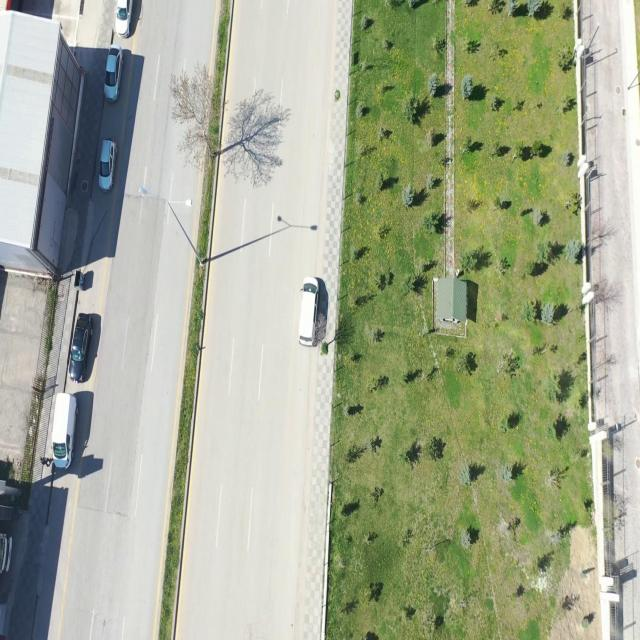p3rson: (40, 457, 50, 467)
